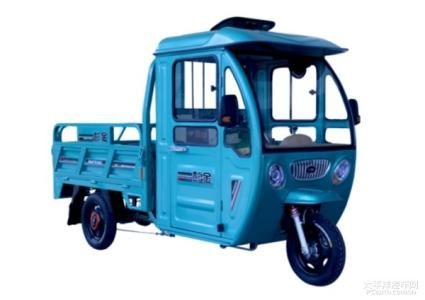tricycle: (49, 30, 362, 279)
